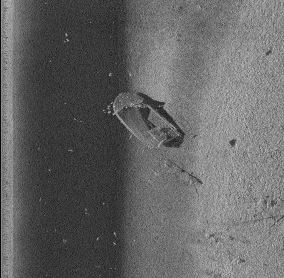ship: (111, 89, 182, 152)
